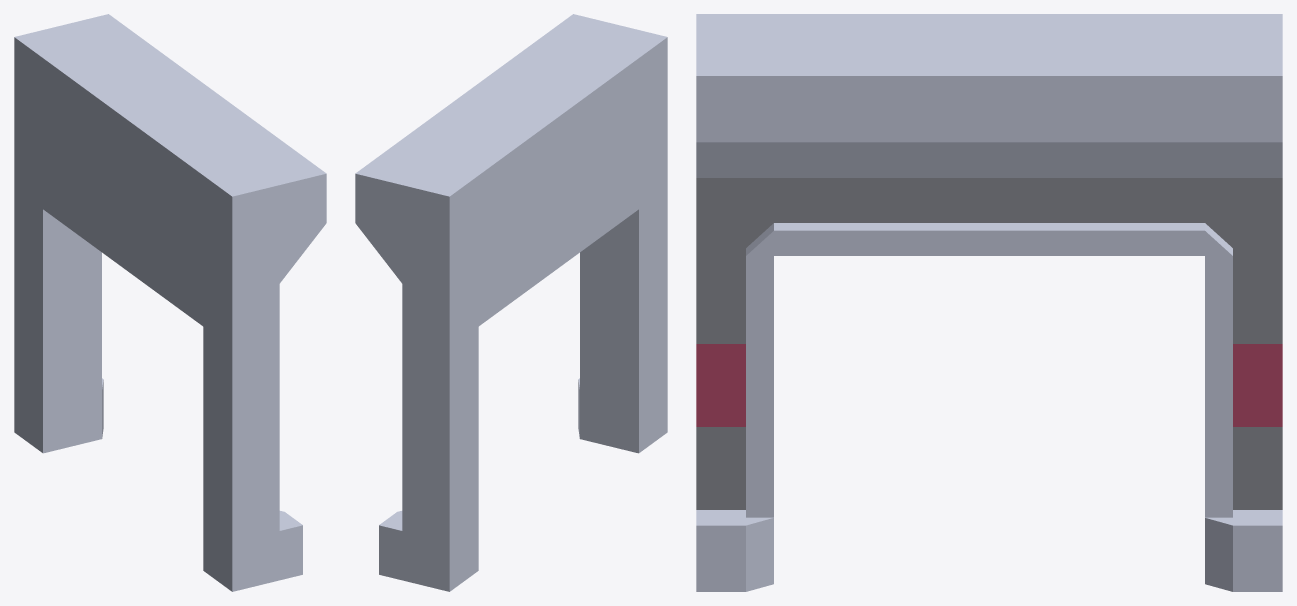
Rendered from spaceInterior_037.obj.
The picture shows the model from 3 angles, left to right: view 1: azimuth 30°, elevation 25°; view 2: azimuth 150°, elevation 25°; view 3: azimuth 270°, elevation 25°; orthographic projection. The views are drawn at different scales.
Parts seen in each view (by area): view 1: Mesh1 Group1 Model; view 2: Mesh1 Group1 Model; view 3: Mesh1 Group1 Model.
Boxes of the visible parts, x1=… form: Mesh1 Group1 Model: x1=14, y1=14, x2=326, y2=591; Mesh1 Group1 Model: x1=355, y1=14, x2=667, y2=591; Mesh1 Group1 Model: x1=696, y1=14, x2=1282, y2=591.
Bounding box in the file's own units: 0.25 × 1 × 1.
